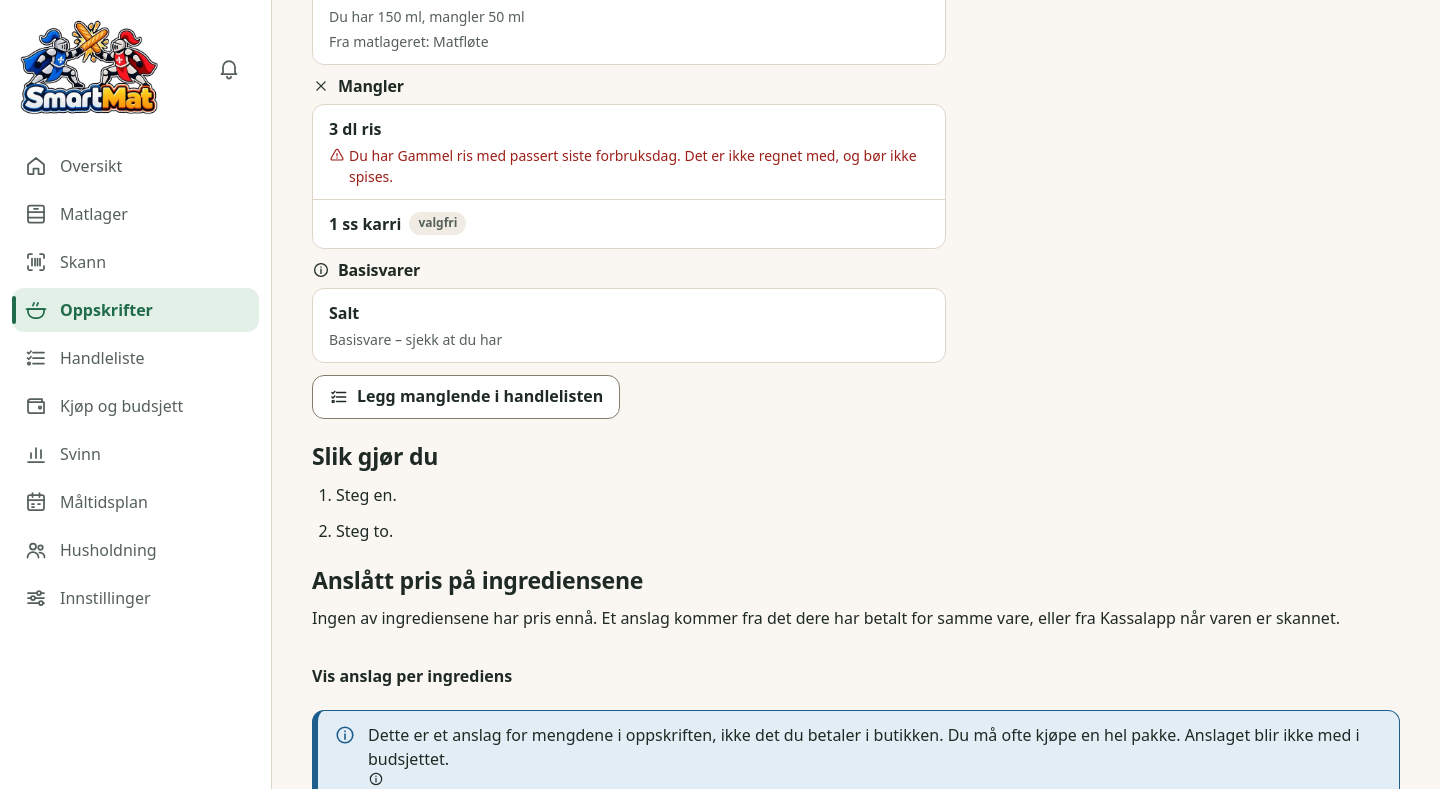
Scenario: FR-SHOP-002 add what is missing to the shopping list › marks an ingredient that is already on the list and leaves it unticked
The width and height of the screenshot is (1440, 789).
(page scrolled)
Click the button "Legg manglende i handlelisten": click(466, 397) [312,375,620,419]
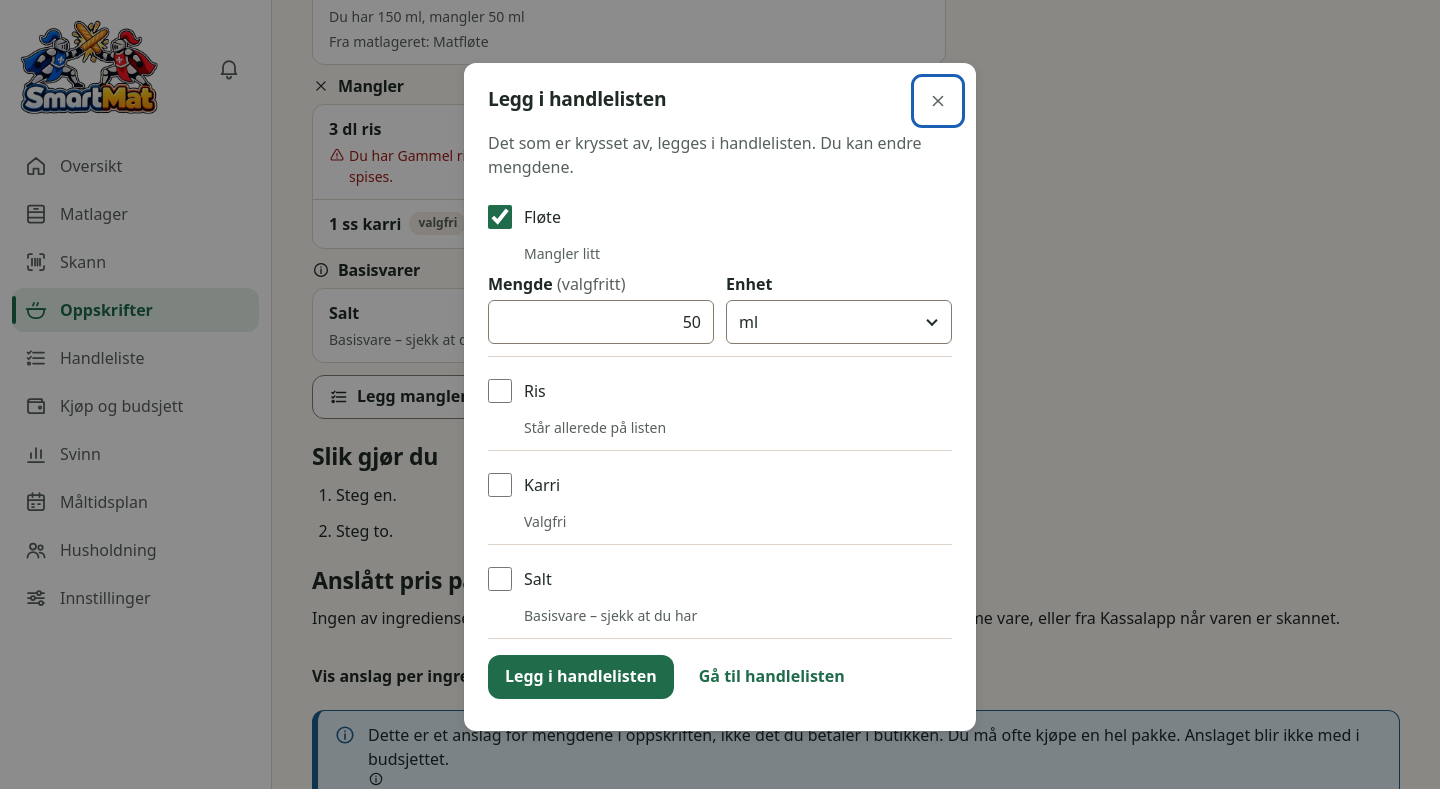
expect the checkbox labelled "Ris" is not checked: met, box [488,379,512,403]
expect the text "Står allerede på listen" is shown: met, box [524,418,666,437]
